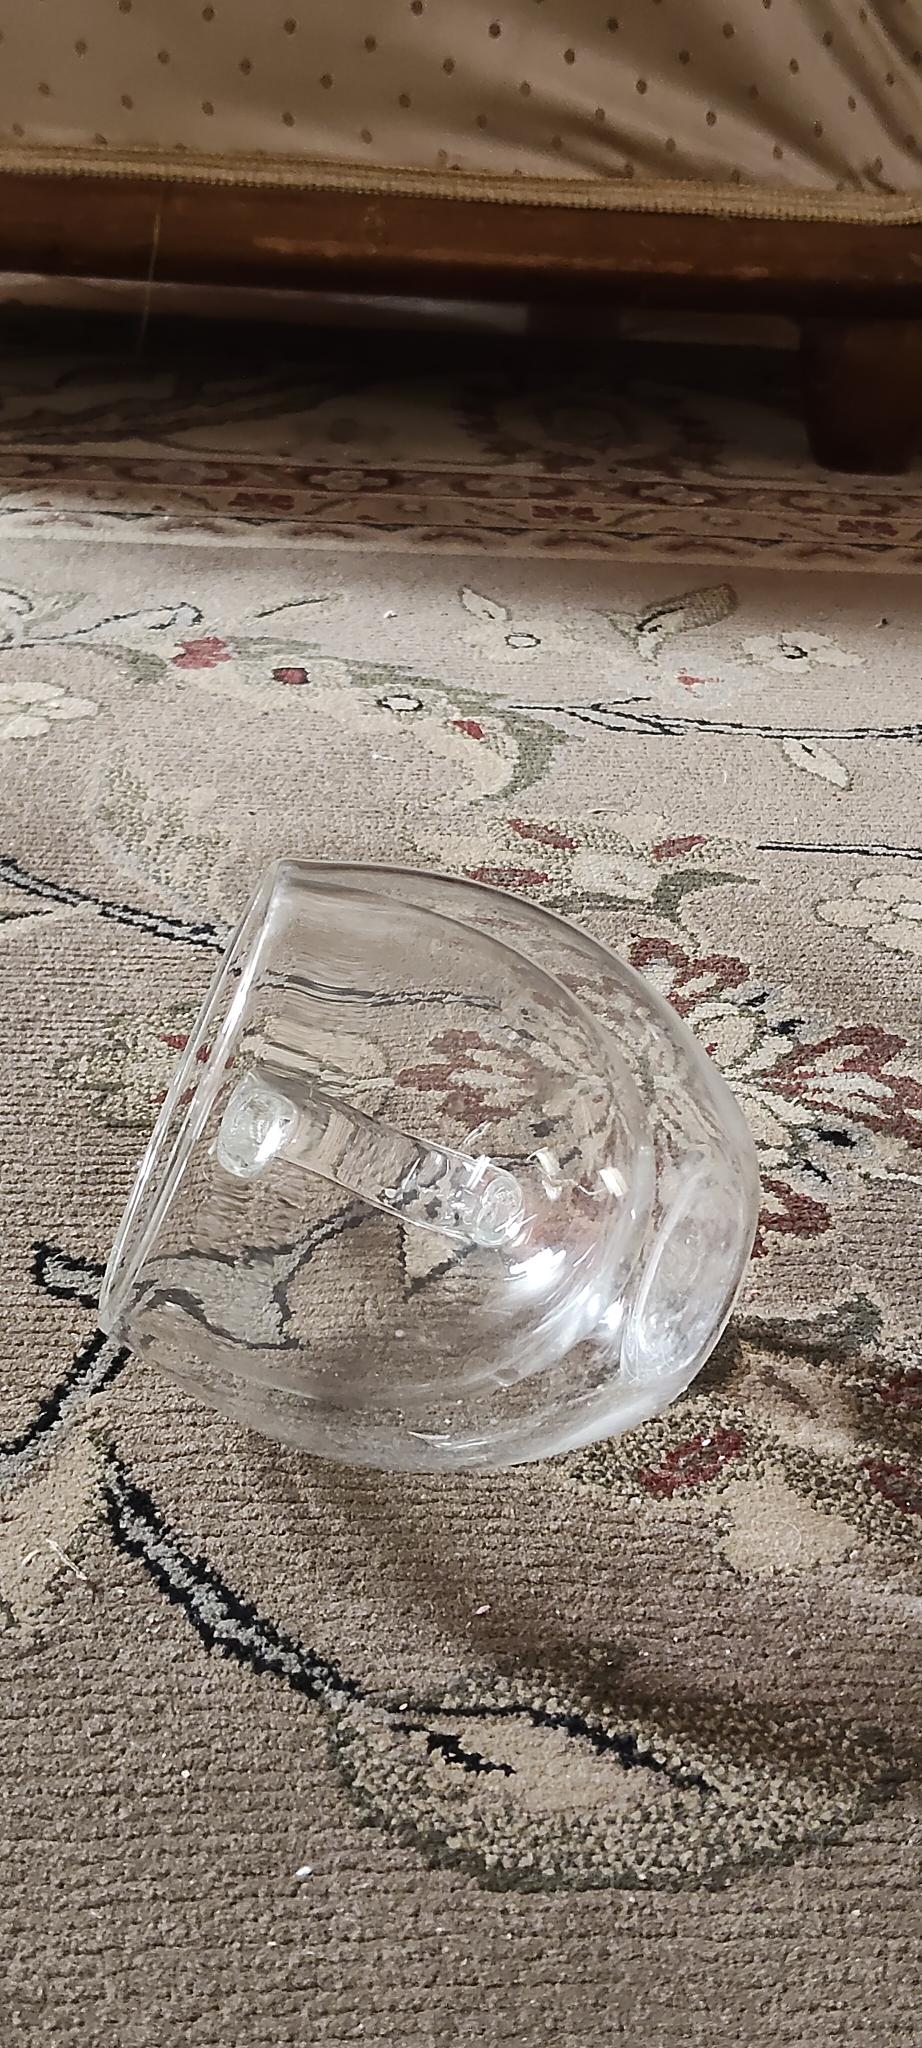Mug: (103, 842, 765, 1467)
